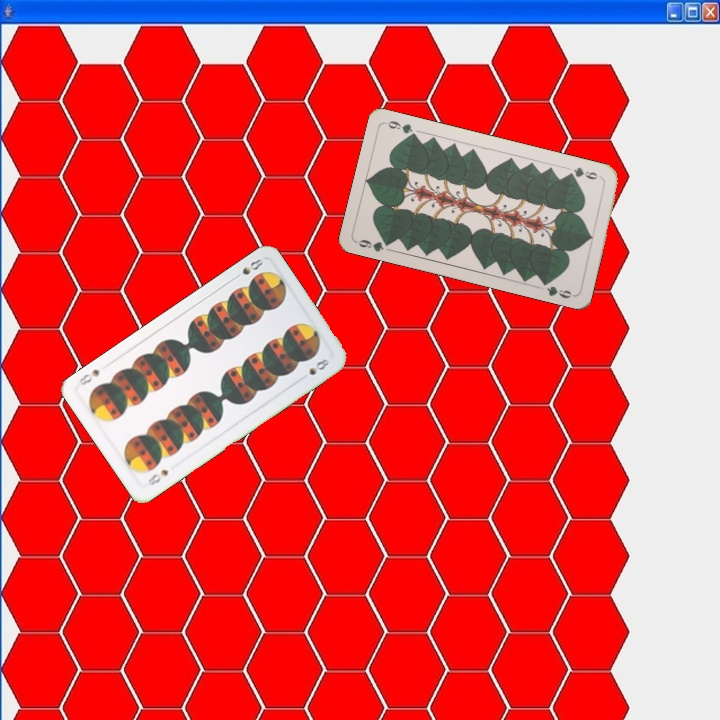G9: (564, 163, 605, 182), (353, 235, 394, 254)
S8: (229, 254, 266, 282), (144, 465, 171, 488)
